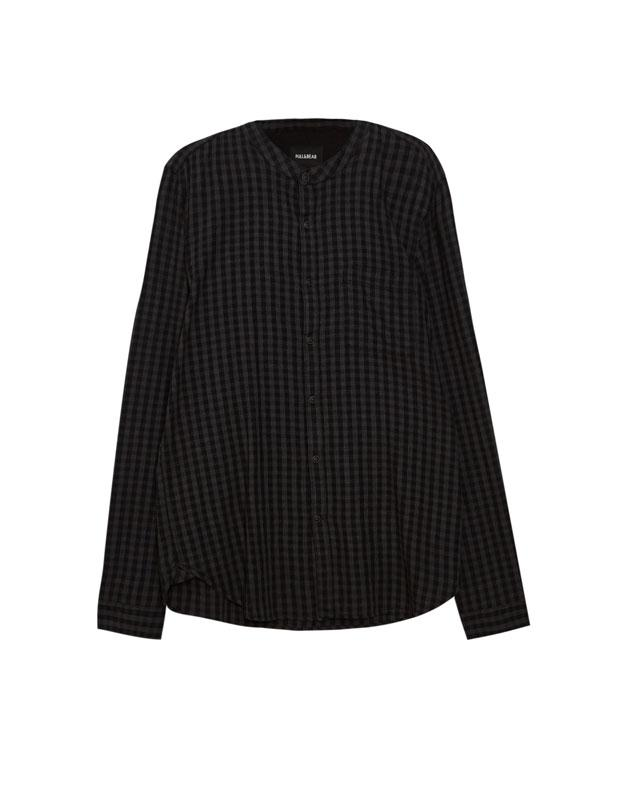teeshirt: (86, 109, 551, 650)
